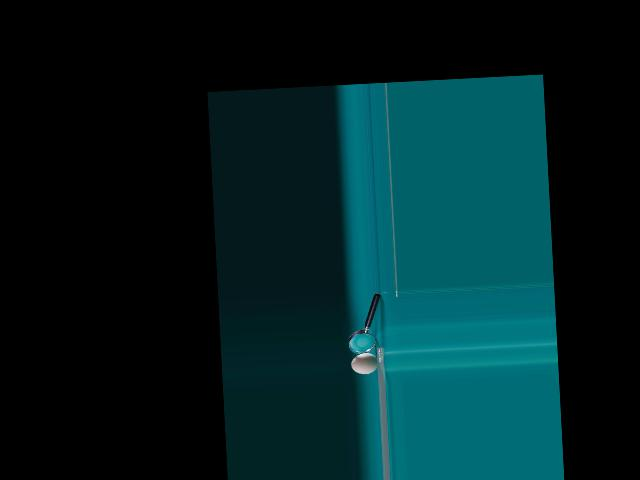egg: (350, 352, 378, 375)
